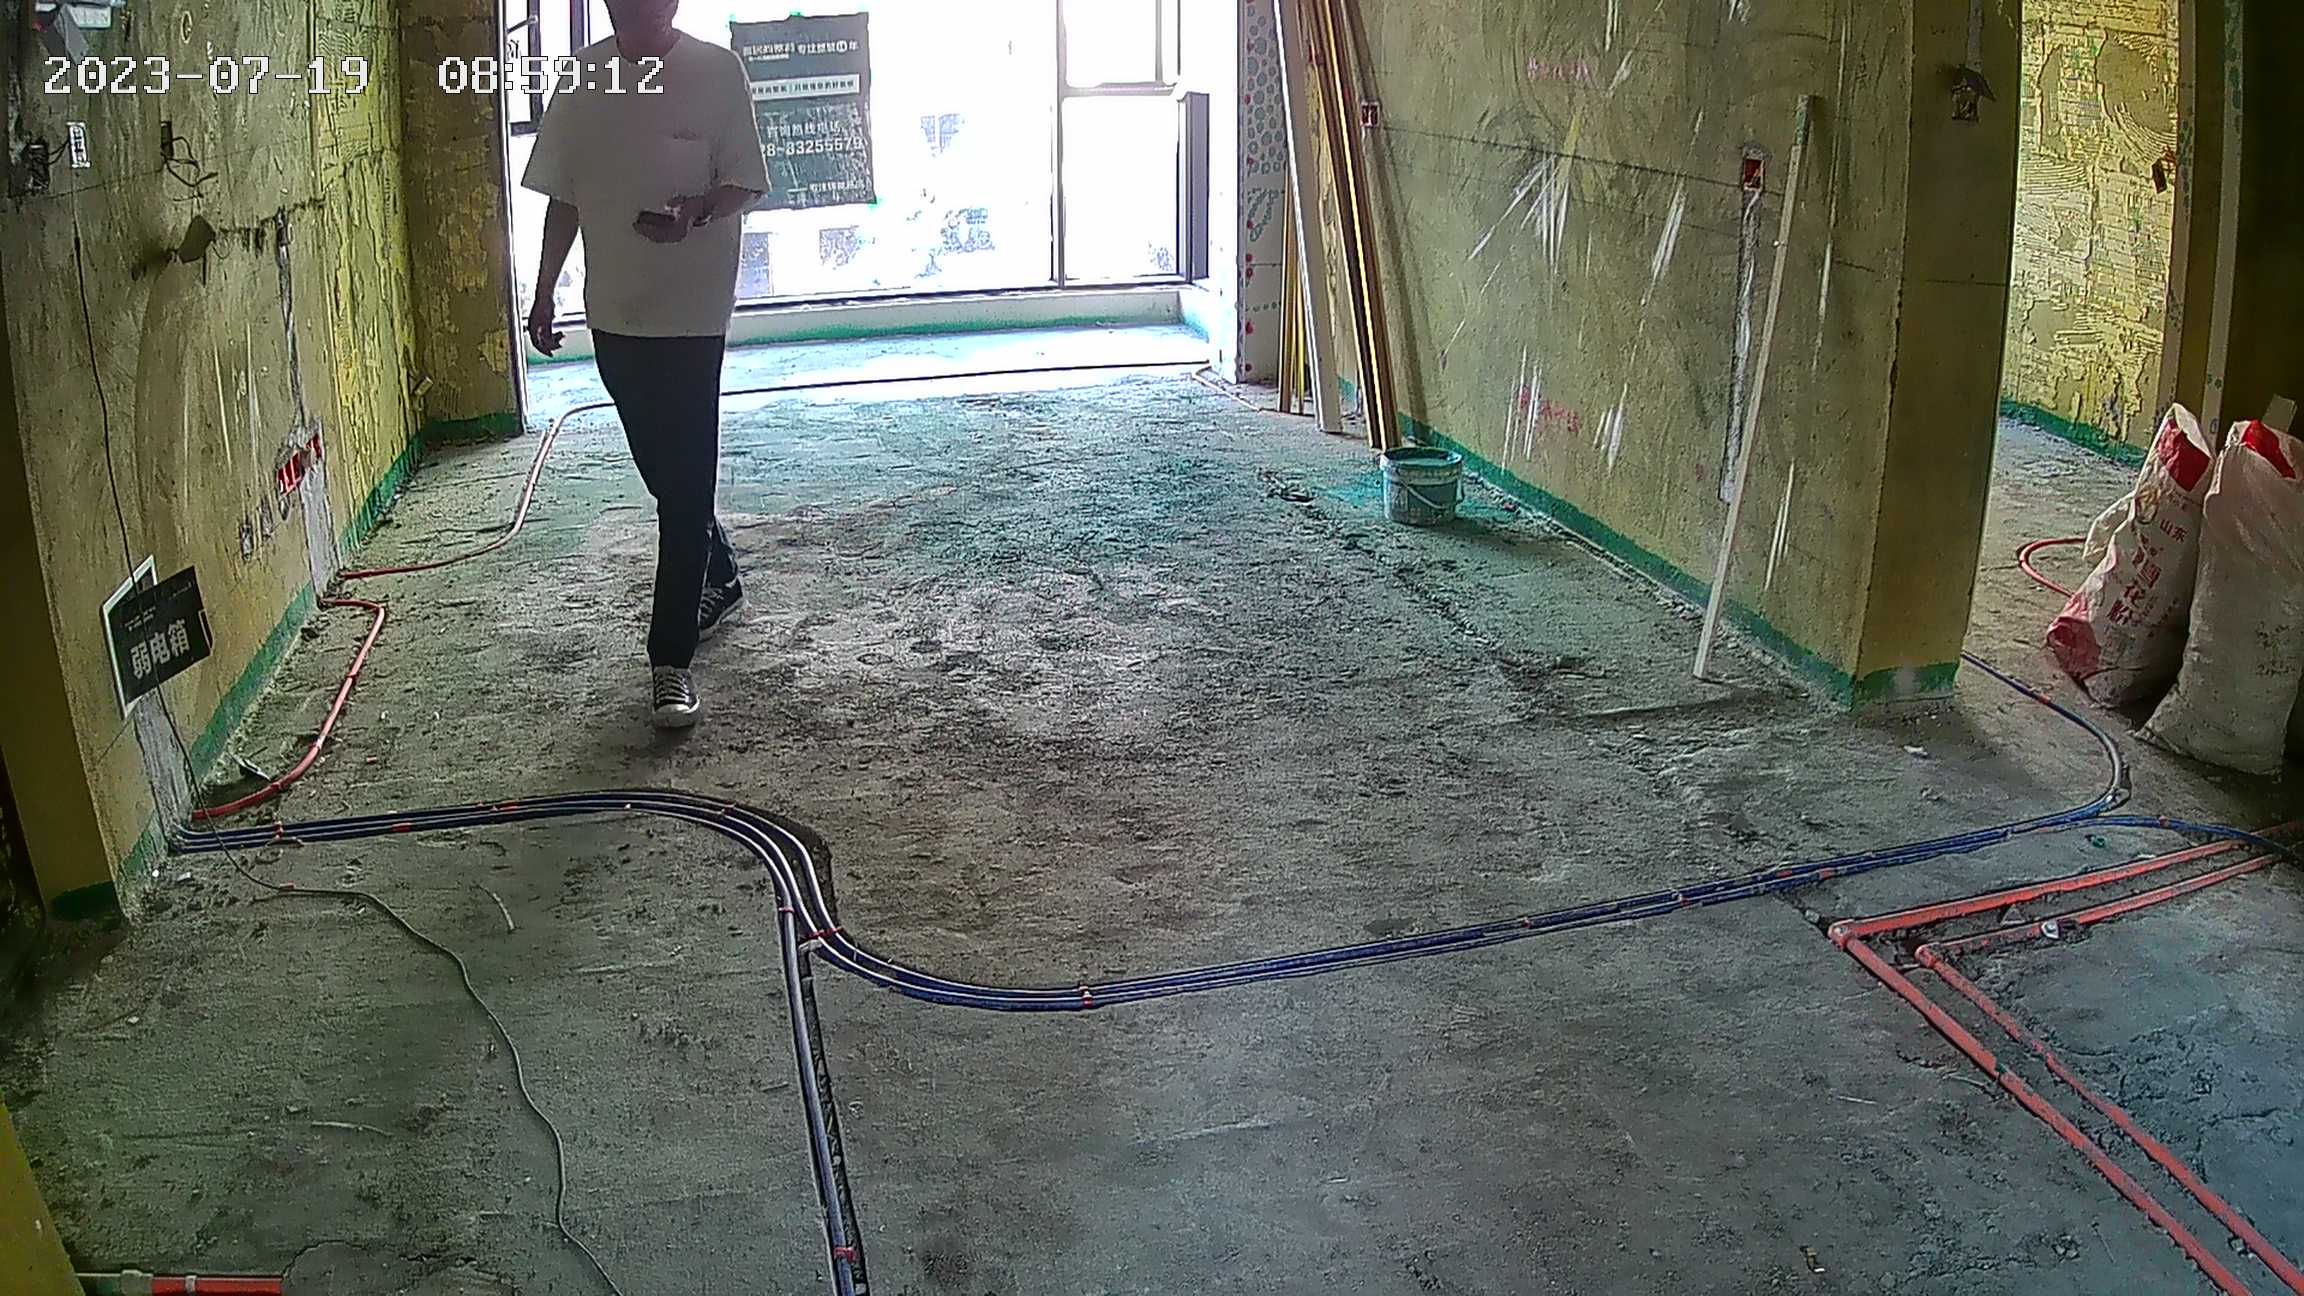people: (496, 1, 775, 733)
window: (502, 1, 1214, 348)
